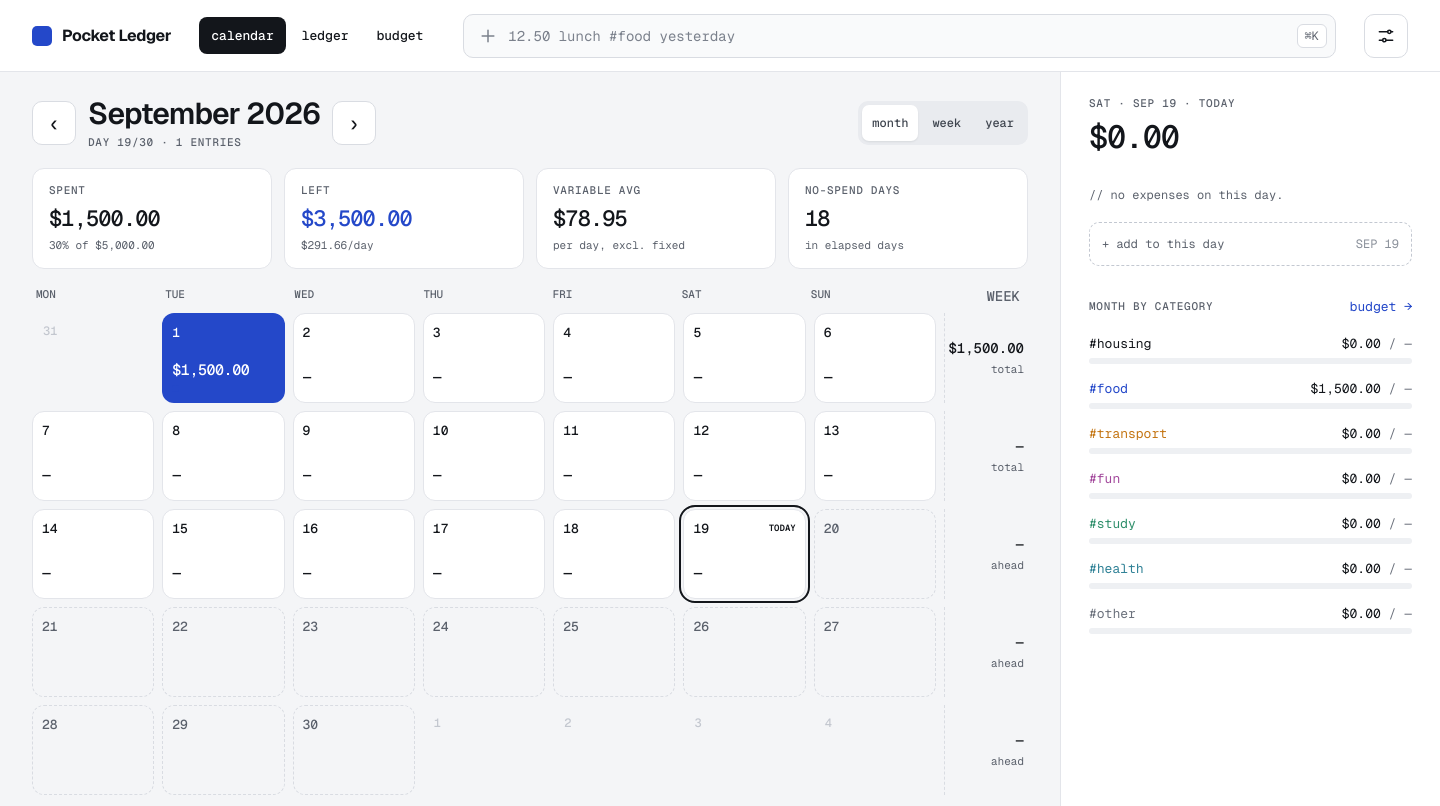
Test: exports the selected month from the ledger
The image size is (1440, 806).
Click the button "ledger". click: (325, 36)
box: [290, 17, 360, 54]
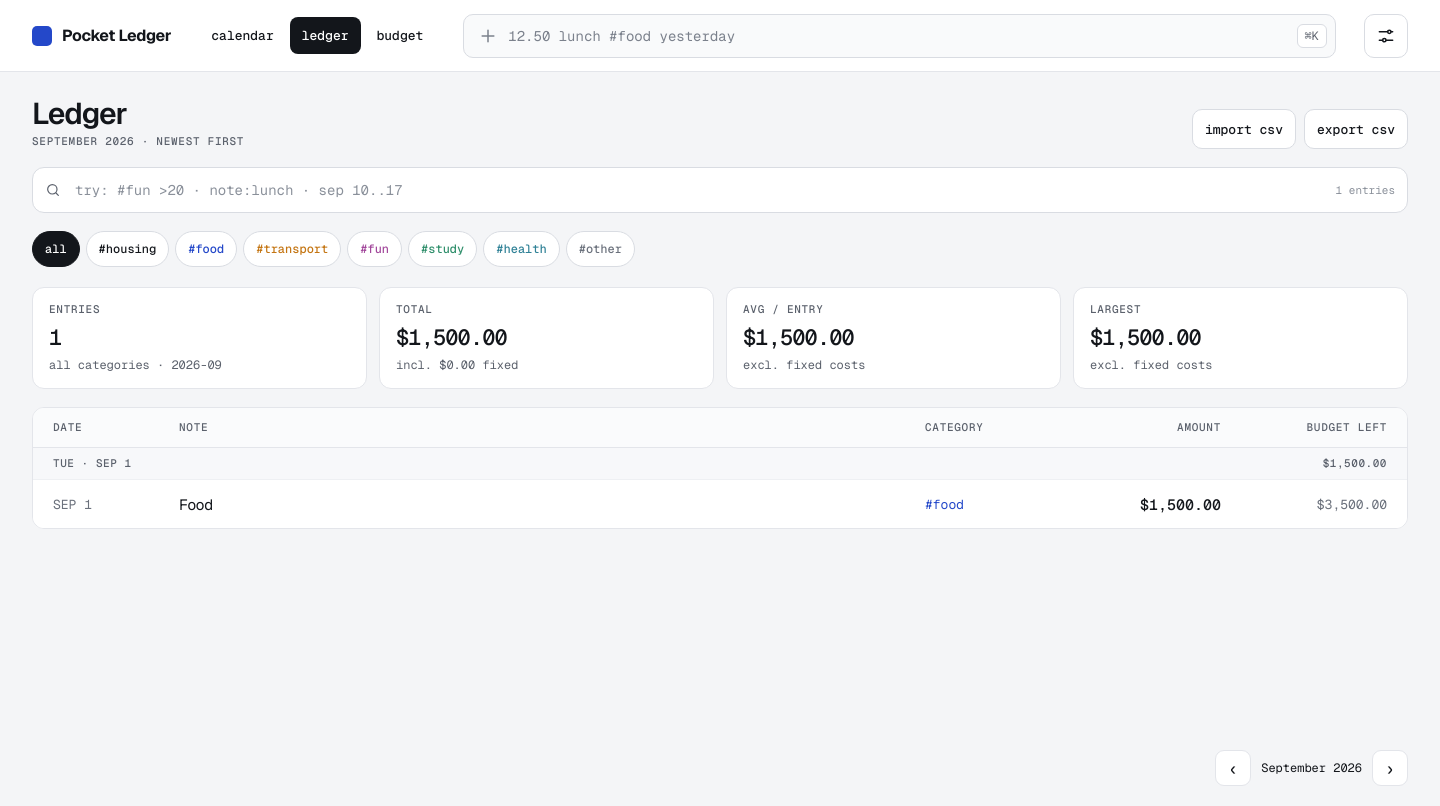
Click the button "export csv". click: (1356, 129)
box: [1304, 109, 1408, 149]
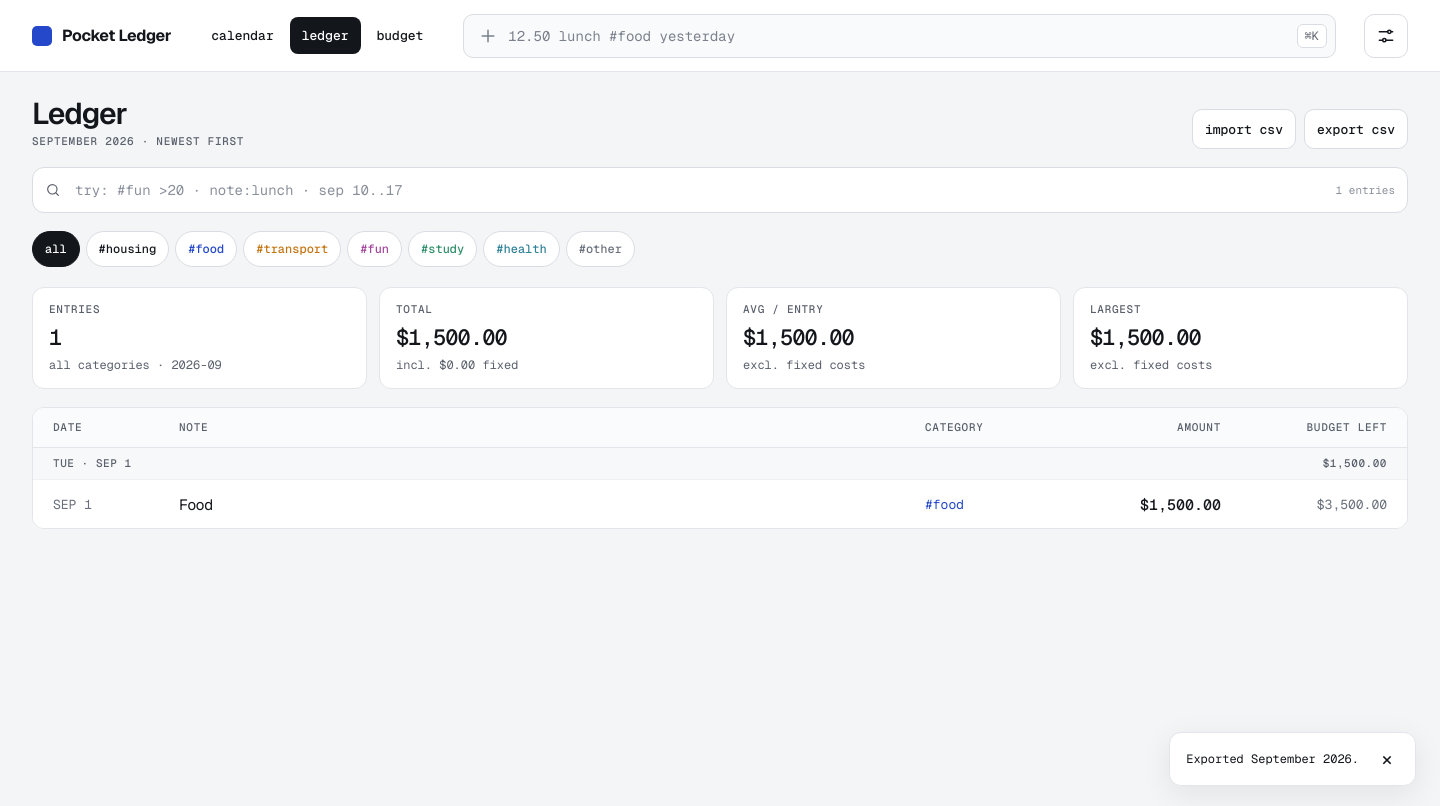
Expected: the text "Exported September 2026." is shown, [1186, 751, 1359, 767]
